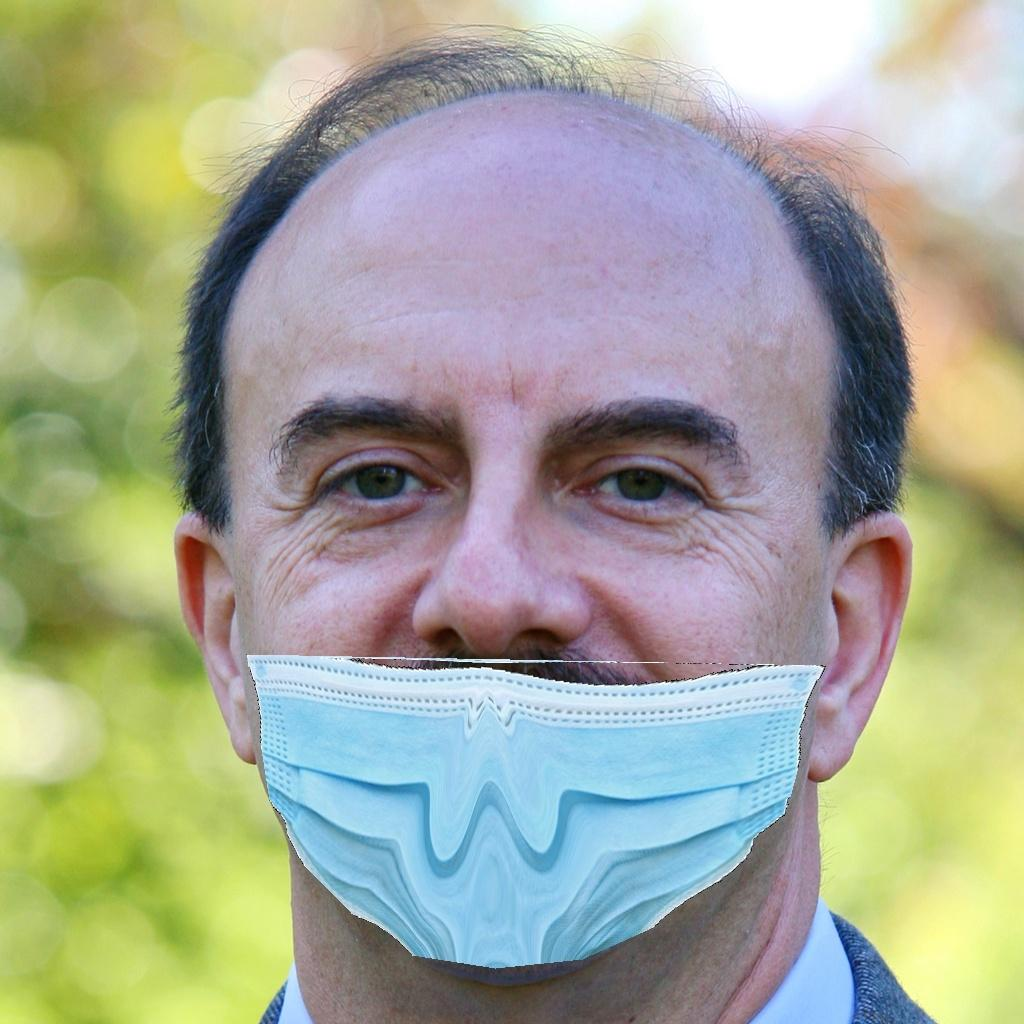Máscara Incorreta: (215, 285, 826, 967)
